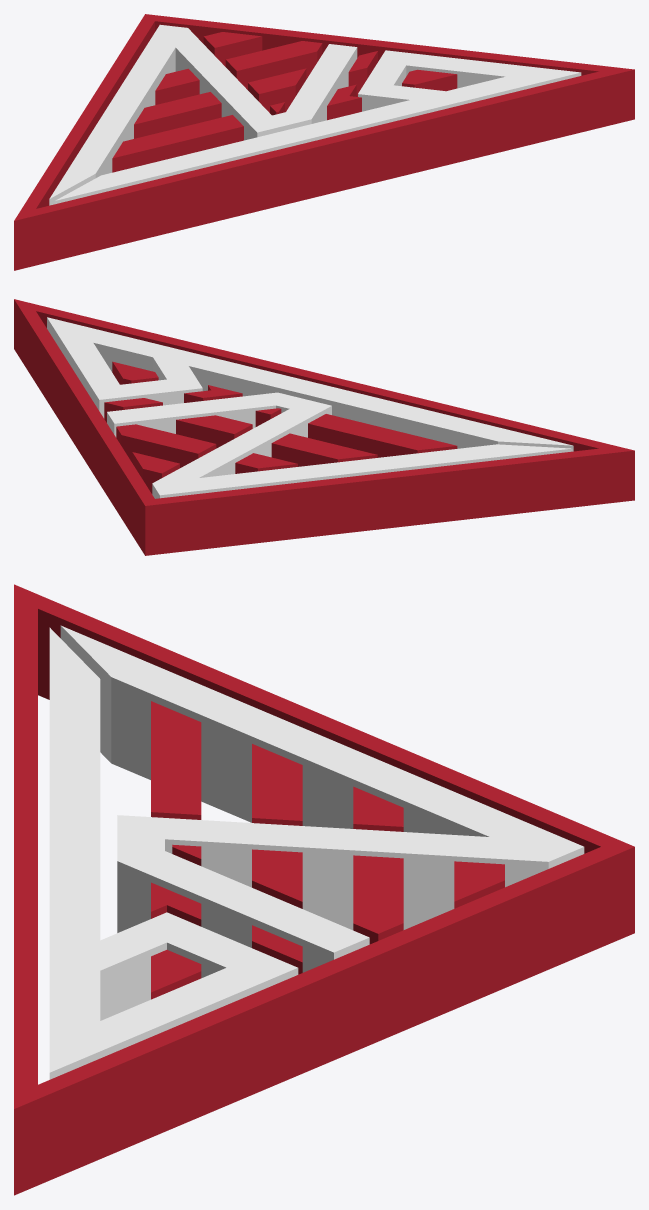
File: N9-white.obj
The picture shows the model from 3 angles, top to bottom: view 1: azimuth 30°, elevation 25°; view 2: azimuth 150°, elevation 25°; view 3: azimuth 270°, elevation 25°; orthographic projection. The views are drawn at different scales.
Bounding box in the file's own units: 52.07 × 4 × 26.04.
